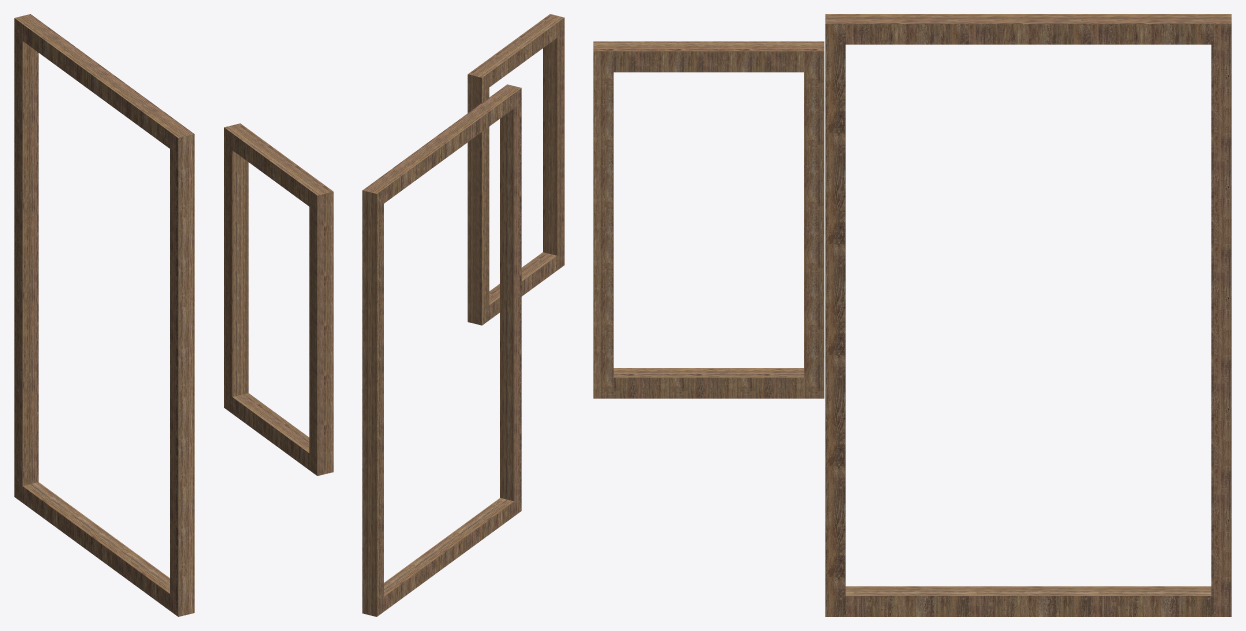
3 renders of one model, left to right at view 1: azimuth 30°, elevation 25°; view 2: azimuth 150°, elevation 25°; view 3: azimuth 270°, elevation 25°, orthographic. The views are drawn at different scales.
Parts seen in each view (by area): view 1: door_, window_; view 2: door_, window_; view 3: door_, window_.
Boxes of the visible parts, bbox=[...] form: door_: bbox=[14, 14, 194, 616]; window_: bbox=[224, 123, 333, 475]; door_: bbox=[362, 84, 521, 616]; window_: bbox=[467, 14, 564, 325]; door_: bbox=[825, 14, 1231, 616]; window_: bbox=[593, 41, 824, 398].
Bounding box in the file's own units: 37.97 × 282 × 275.
Materials: 1 (1 with a texture image).
